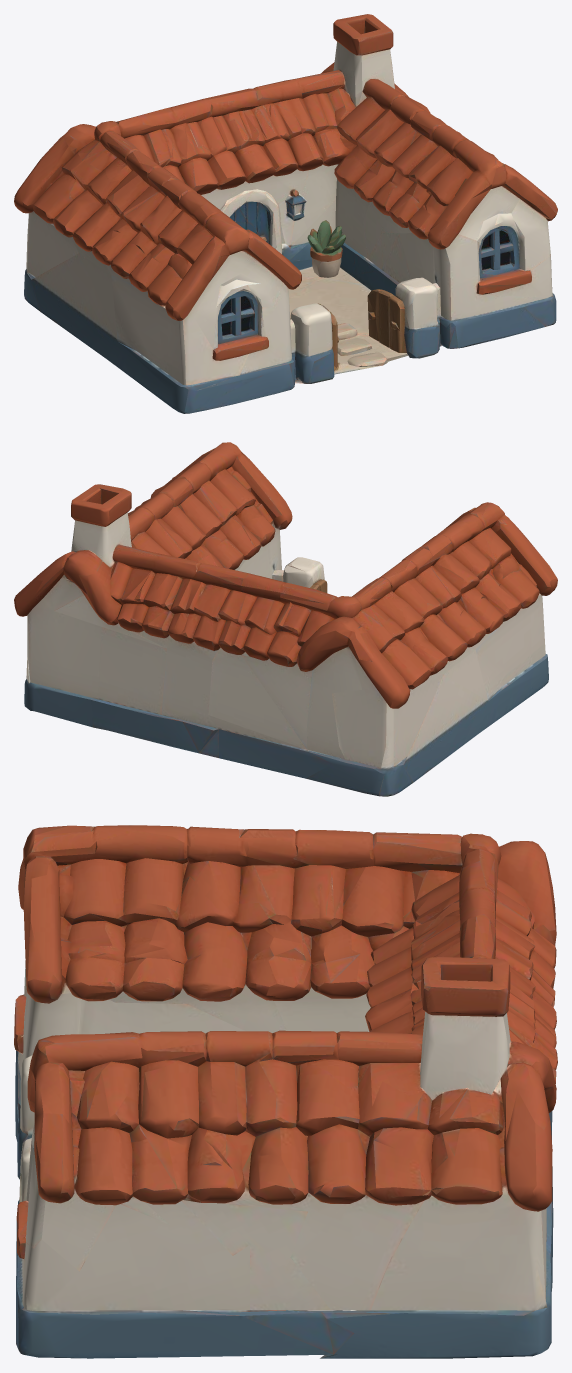
File: model-village-courtyardHouse-74924494dae8.glb
3 renders of one model, top to bottom at view 1: azimuth 30°, elevation 25°; view 2: azimuth 150°, elevation 25°; view 3: azimuth 270°, elevation 25°, orthographic. The views are drawn at different scales.
Visible parts, largest first — view 1: Mesh_0; view 2: Mesh_0; view 3: Mesh_0.
Part boxes in pixels (left/top/right/bottom): Mesh_0: left=14, top=14, right=557, bottom=413; Mesh_0: left=14, top=442, right=557, bottom=796; Mesh_0: left=14, top=825, right=557, bottom=1358.
Bounding box in the file's own units: 3.2 × 1.65 × 2.36.
Materials: 1 (1 with a texture image).
